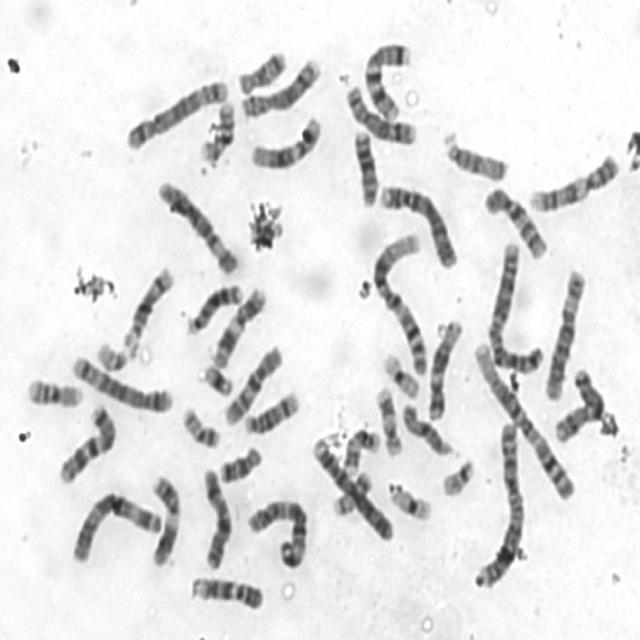A1: (468, 335, 578, 503), (368, 225, 430, 377)
A2: (472, 414, 529, 590), (484, 236, 545, 374)
A3: (66, 484, 163, 565), (243, 491, 310, 570)
B4: (308, 432, 397, 543), (375, 177, 462, 271)
B5: (121, 72, 231, 152), (67, 347, 176, 415)
C10: (220, 339, 286, 428), (481, 179, 551, 261)
C11: (209, 279, 270, 369), (146, 468, 183, 569)
C12: (247, 109, 324, 172), (423, 312, 464, 422)
C6: (154, 173, 243, 277), (541, 261, 589, 402)
C7: (53, 397, 118, 486), (358, 34, 414, 123)
C8: (237, 52, 324, 120), (341, 77, 420, 146)
C9: (524, 146, 624, 214), (187, 570, 266, 612)
D13: (184, 276, 245, 336), (349, 123, 380, 208)
D14: (120, 259, 177, 353), (241, 384, 303, 436)
D15: (439, 123, 509, 184), (399, 397, 457, 458)
E16: (196, 93, 238, 163), (22, 370, 84, 409)
E17: (372, 381, 405, 459), (339, 422, 382, 477)
E18: (234, 44, 290, 96), (216, 439, 264, 485)
F19: (378, 345, 422, 399), (385, 477, 434, 522)
F20: (330, 464, 374, 518), (178, 399, 222, 450)
G21: (199, 357, 235, 398), (246, 219, 287, 244)
G22: (438, 452, 477, 498), (92, 333, 135, 374)
X: (549, 362, 608, 445), (198, 461, 235, 572)
